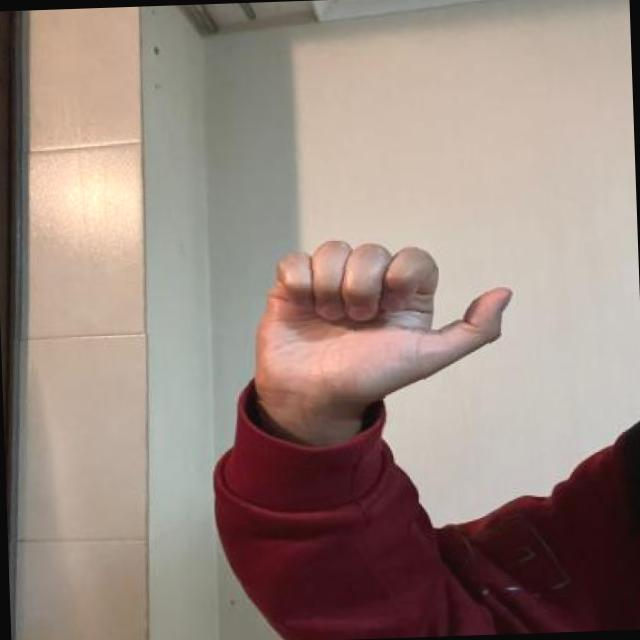E: (241, 231, 524, 405)
